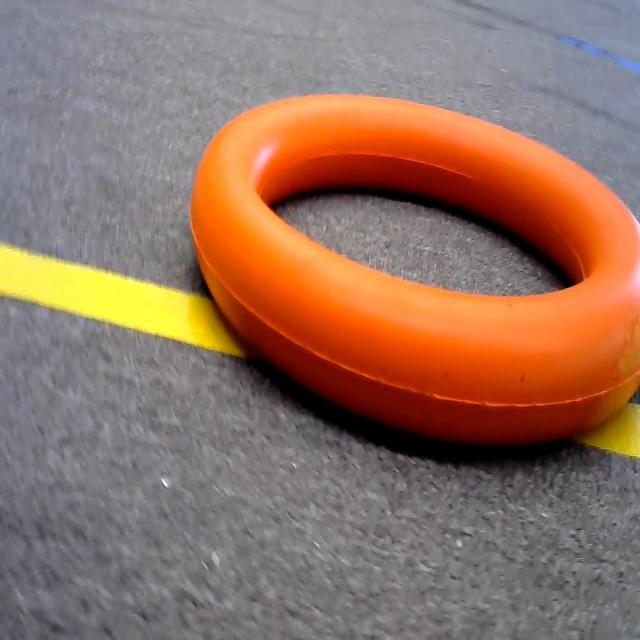note: (174, 84, 640, 462)
